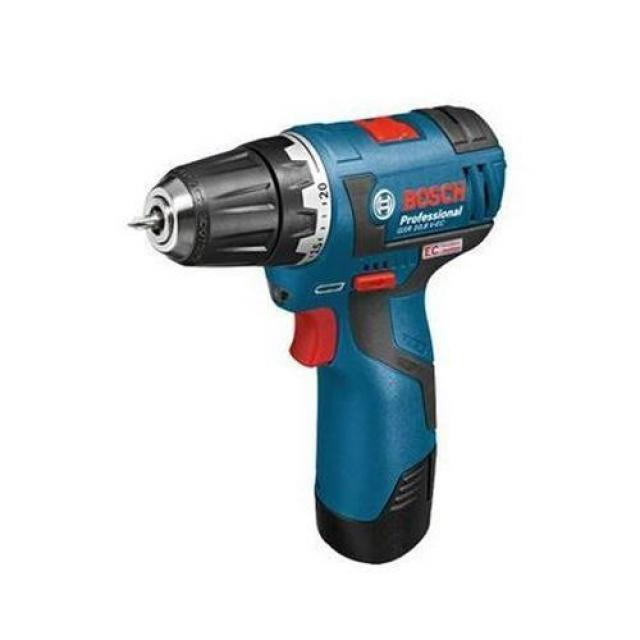drill: (126, 102, 508, 564)
